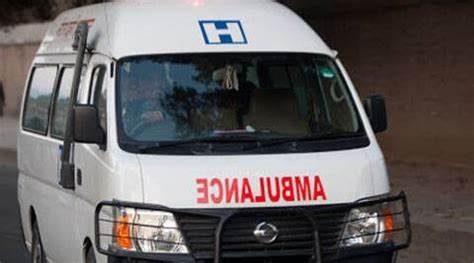ambulance: (27, 2, 420, 263)
